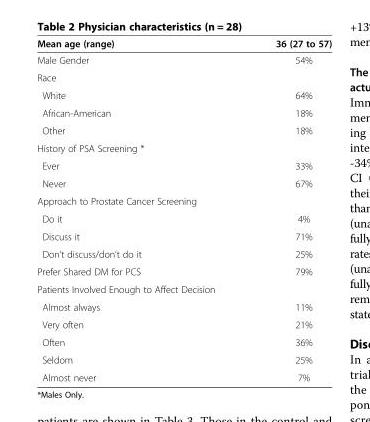table: (36, 37, 331, 382)
table column: (36, 37, 244, 382), (244, 37, 331, 382)
table column header: (36, 37, 331, 51)
table projected row header: (36, 68, 331, 86), (36, 191, 331, 209), (36, 139, 331, 156), (36, 280, 331, 297)
table row: (36, 68, 331, 86), (36, 103, 331, 121), (36, 121, 331, 139), (36, 156, 331, 174), (36, 191, 331, 209), (36, 209, 331, 227), (36, 244, 331, 262), (36, 262, 331, 280), (36, 297, 331, 315), (36, 315, 331, 333), (36, 350, 331, 368), (36, 51, 331, 68), (36, 86, 331, 103), (36, 139, 331, 156), (36, 174, 331, 191), (36, 227, 331, 244), (36, 280, 331, 297), (36, 333, 331, 350), (36, 37, 331, 51), (36, 368, 331, 382)
